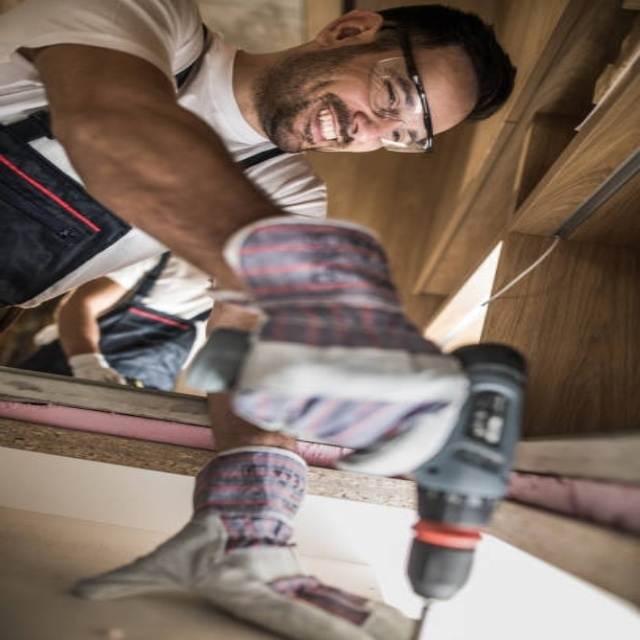Gafas: (370, 50, 431, 154)
Guantes: (74, 428, 417, 637), (212, 216, 467, 475), (61, 348, 129, 385)
Sin_mascara: (284, 95, 350, 155)
